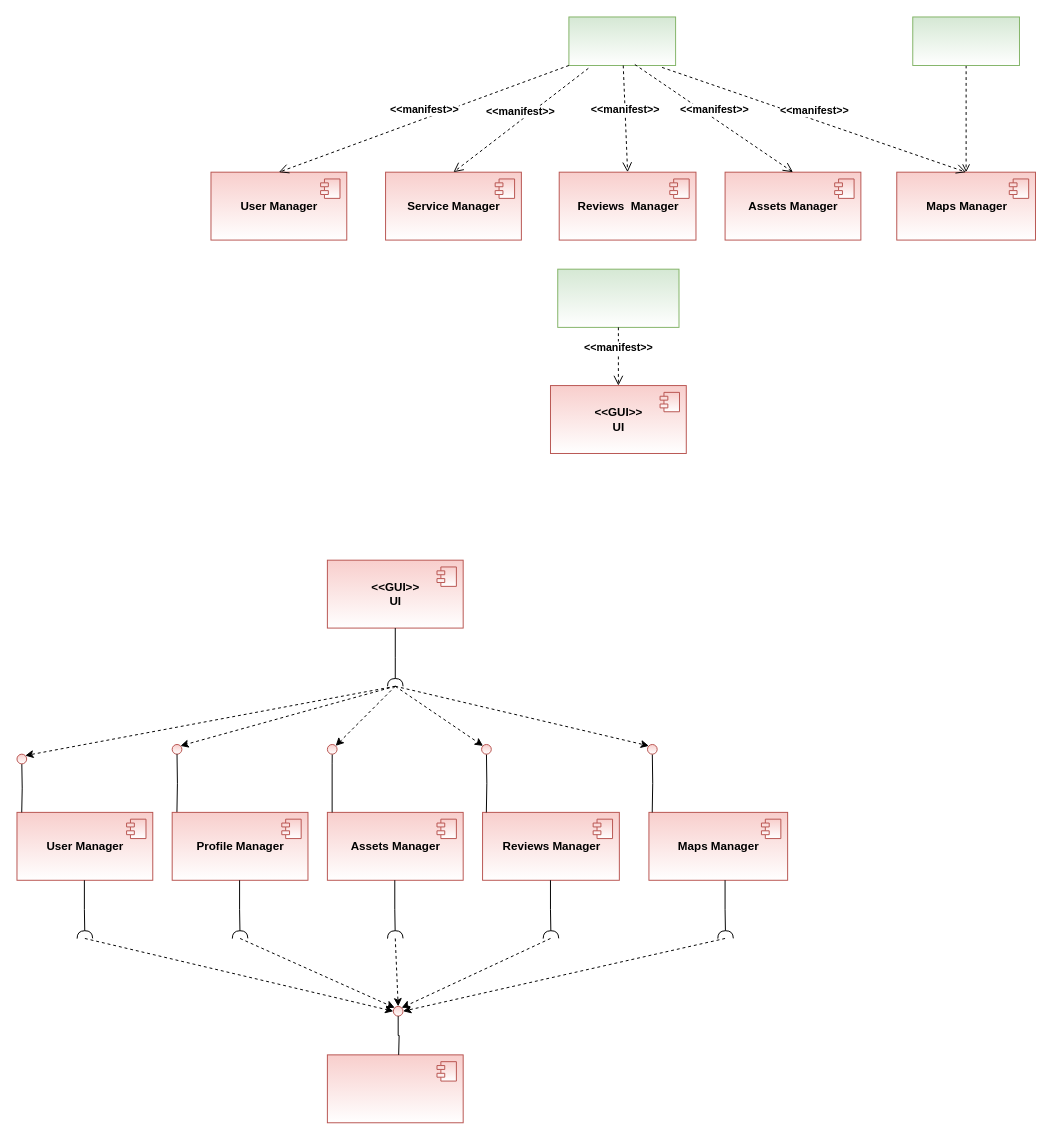
The diagram is 1052 pixels wide and 1140 high, and some of its shapes have lost their labels. Here are the shapes that lost their labels. From the top down, the box of each, then its label:
(568, 16, 676, 65): <<webServer>> PHP
(912, 16, 1019, 65): <<appServer>> Google Maps API
(557, 268, 679, 327): <<website>> GetAgent.php
(326, 1054, 463, 1123): Service Management
